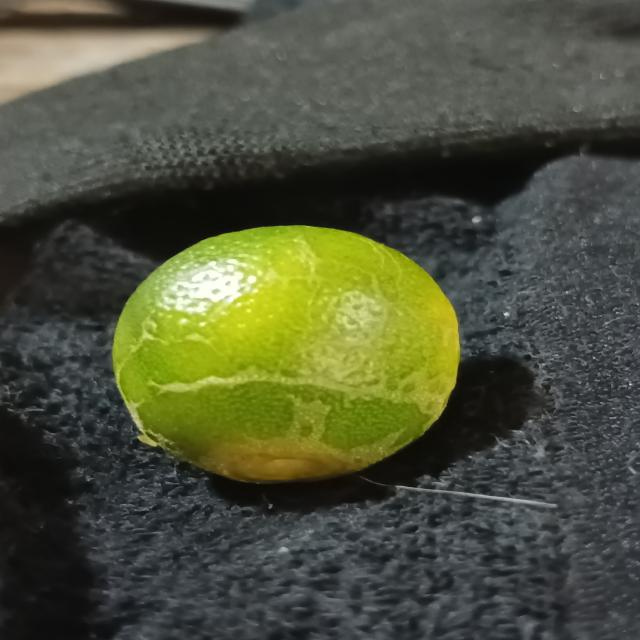thrips: (102, 226, 476, 486)
